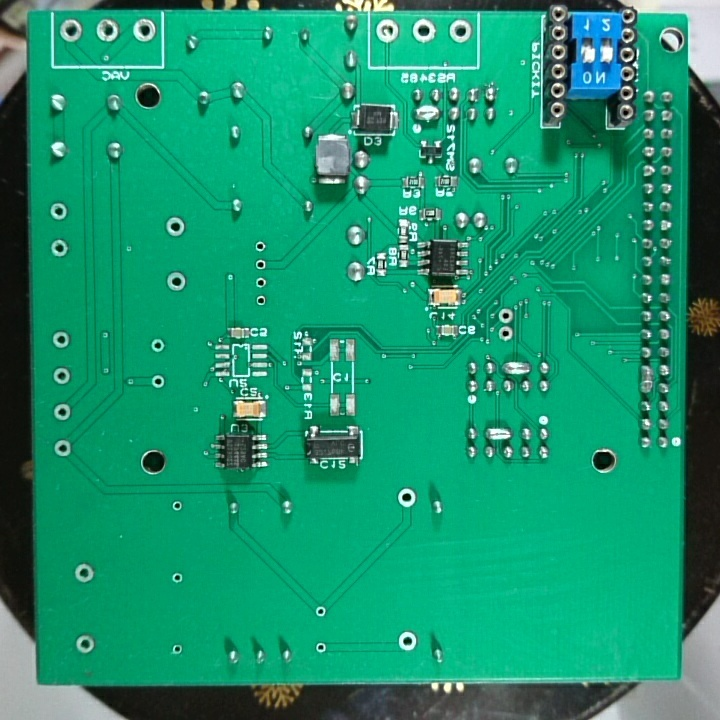F: (446, 17, 473, 46), (93, 17, 120, 46), (374, 16, 400, 46), (57, 17, 85, 44), (71, 631, 98, 658), (131, 17, 157, 45), (411, 18, 438, 44), (70, 560, 97, 586), (163, 214, 188, 240), (394, 486, 421, 510), (164, 269, 188, 294), (51, 400, 74, 425), (396, 629, 419, 654), (47, 200, 70, 223), (48, 236, 70, 260), (52, 437, 74, 460), (50, 365, 74, 386), (50, 329, 71, 351), (496, 323, 517, 345), (148, 371, 167, 394), (496, 306, 517, 325), (148, 335, 165, 357), (168, 569, 188, 587), (312, 603, 331, 621), (311, 640, 329, 658), (251, 255, 270, 272), (254, 293, 271, 311), (168, 498, 185, 515), (252, 238, 269, 254), (253, 274, 270, 290), (168, 642, 183, 658)
P: (482, 424, 515, 445), (499, 358, 533, 378), (411, 103, 443, 124), (637, 362, 655, 396)
